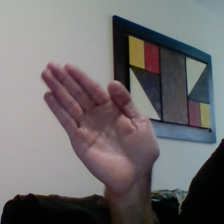left: (35, 57, 168, 192)
